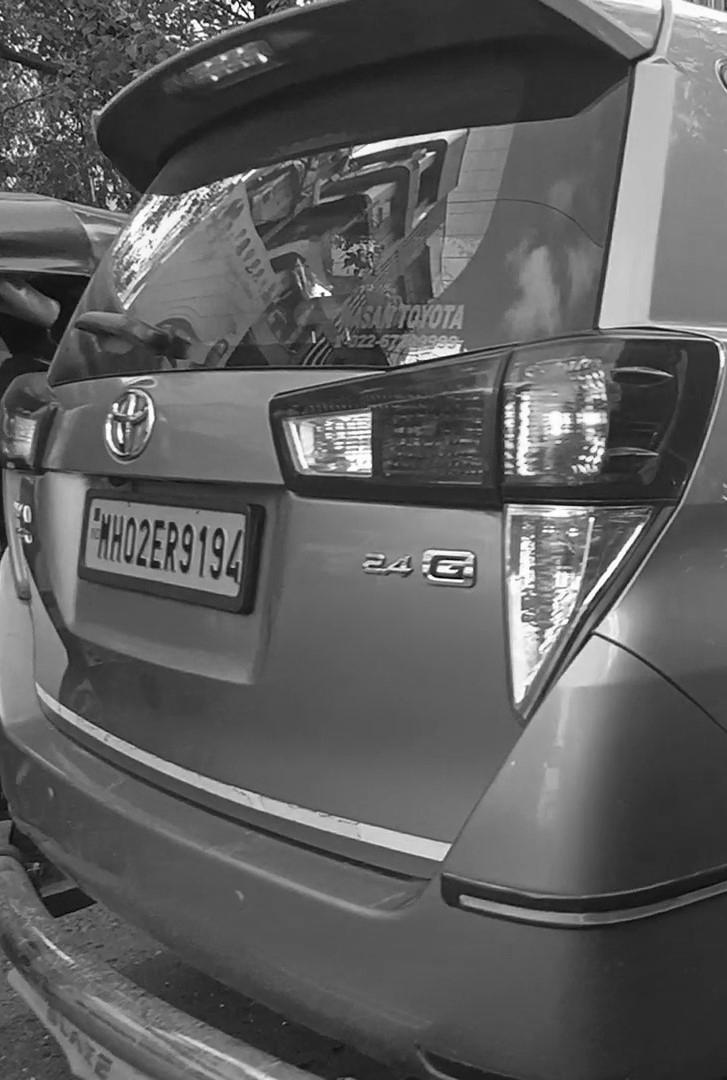number_plate: (71, 491, 260, 619)
